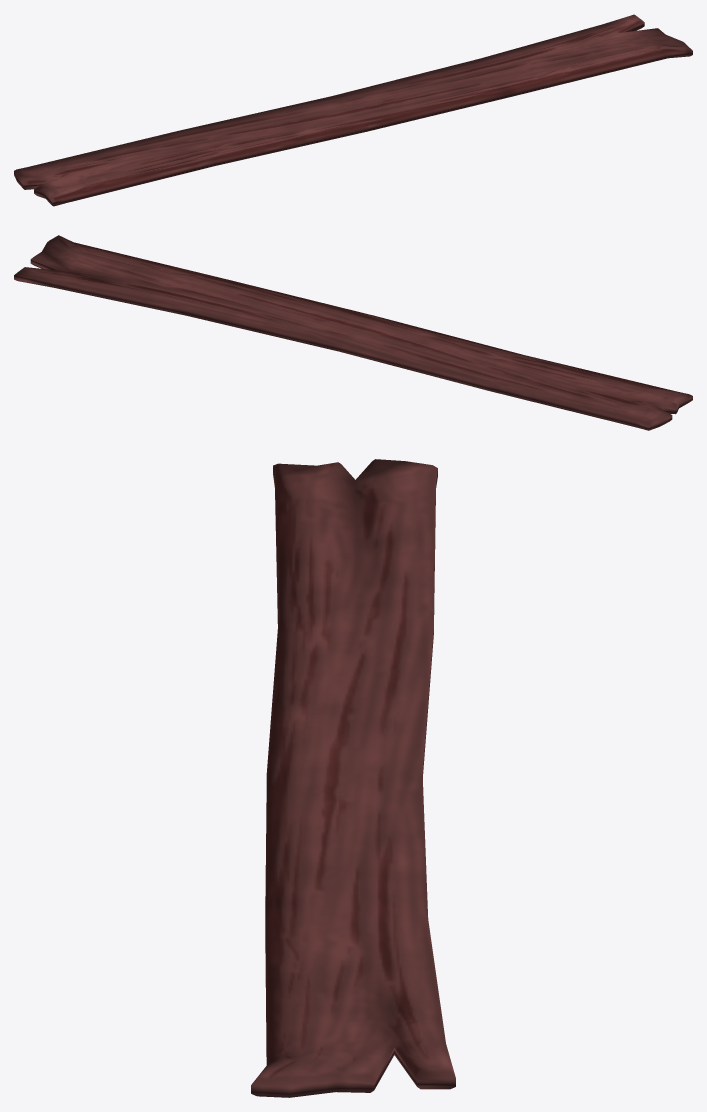
File: MOD_PlankThick.fbx
3 views of the same model, one above another, from view 1: azimuth 30°, elevation 25°; view 2: azimuth 150°, elevation 25°; view 3: azimuth 270°, elevation 25° (orthographic). The views are drawn at different scales.
Visible parts, largest first — view 1: MOD_PlankThick; view 2: MOD_PlankThick; view 3: MOD_PlankThick.
Boxes of the visible parts, x1=… form: MOD_PlankThick: x1=14, y1=14, x2=692, y2=206; MOD_PlankThick: x1=14, y1=235, x2=692, y2=430; MOD_PlankThick: x1=251, y1=459, x2=455, y2=1097.
Size of the model in its own units: 400 by 5.03 by 55.36.
Materials: 1 (1 with a texture image).
